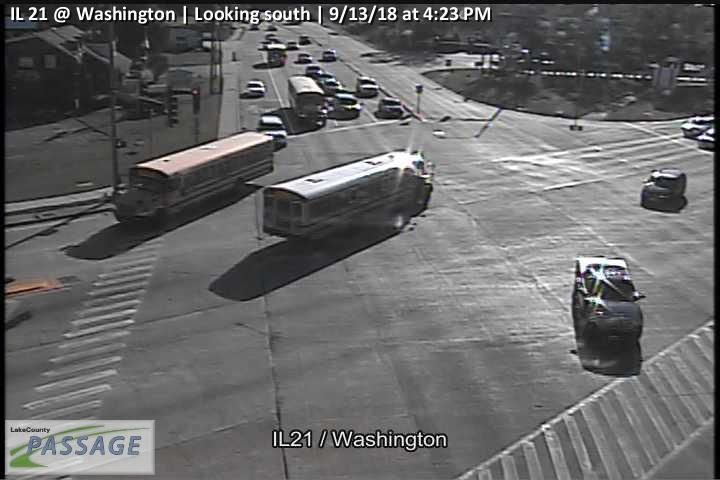Bus: (261, 149, 435, 242), (112, 130, 275, 224), (287, 76, 329, 128)
SUV: (639, 167, 687, 204), (257, 115, 288, 147), (333, 92, 362, 118), (356, 76, 380, 97), (318, 75, 343, 94), (322, 48, 337, 61)
Sedan: (379, 96, 404, 117), (246, 80, 265, 96), (306, 65, 321, 78), (298, 52, 313, 63)
Truck: (570, 255, 648, 346), (266, 43, 288, 67)
